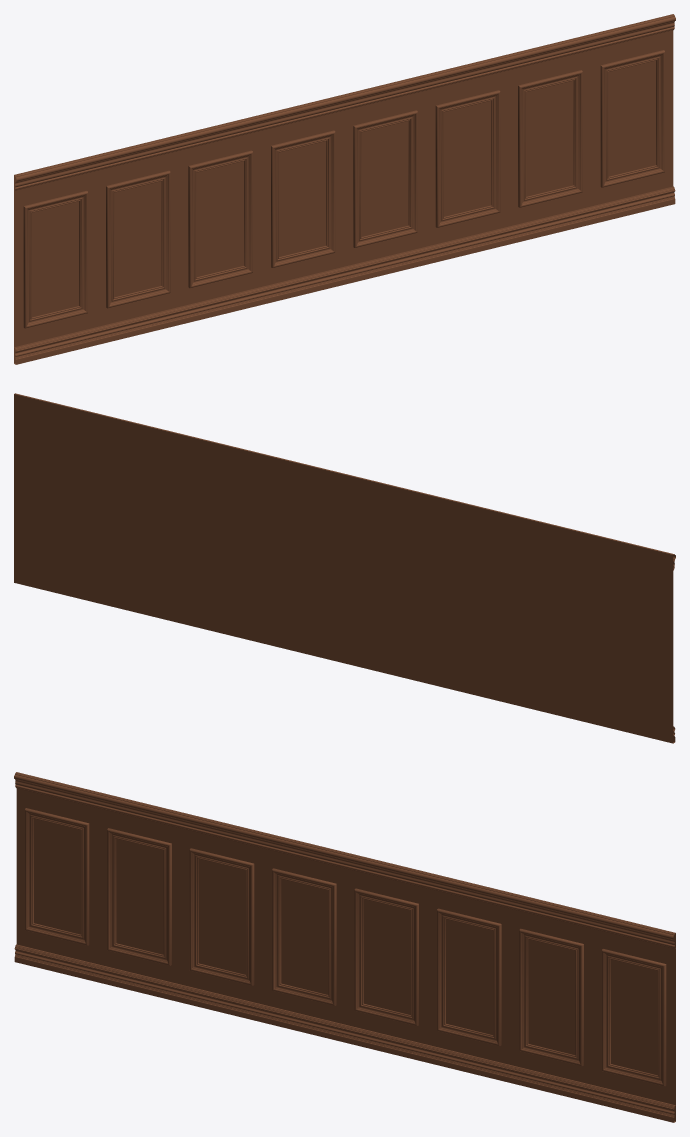
The model's file is wall.fbx.
The picture shows the model from 3 angles, top to bottom: view 1: azimuth 30°, elevation 25°; view 2: azimuth 150°, elevation 25°; view 3: azimuth 330°, elevation 25°; orthographic projection.
Parts seen in each view (by area): view 1: Classic Wall Panels; view 2: Classic Wall Panels; view 3: Classic Wall Panels.
Part boxes in pixels (box(x1,y1,x2,y2)): Classic Wall Panels: box(14, 14, 675, 364); Classic Wall Panels: box(14, 393, 675, 743); Classic Wall Panels: box(14, 772, 675, 1122).
Bounding box in the file's own units: 360 × 98.4 × 2.47.
